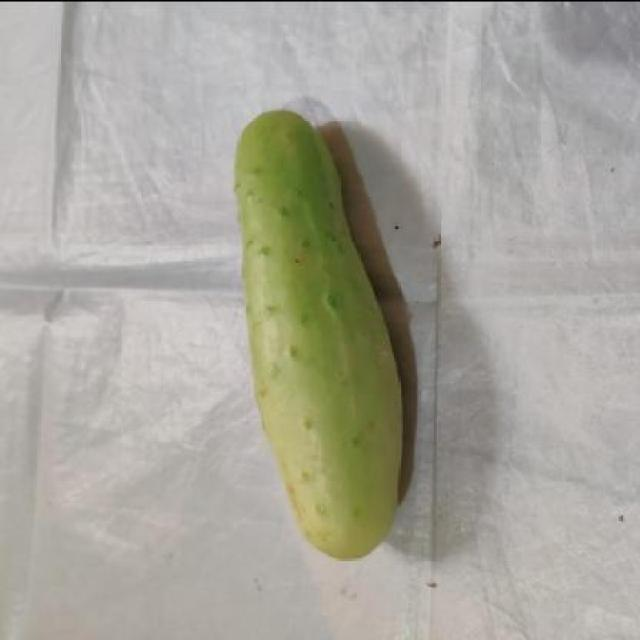cucumber: (234, 108, 406, 554)
